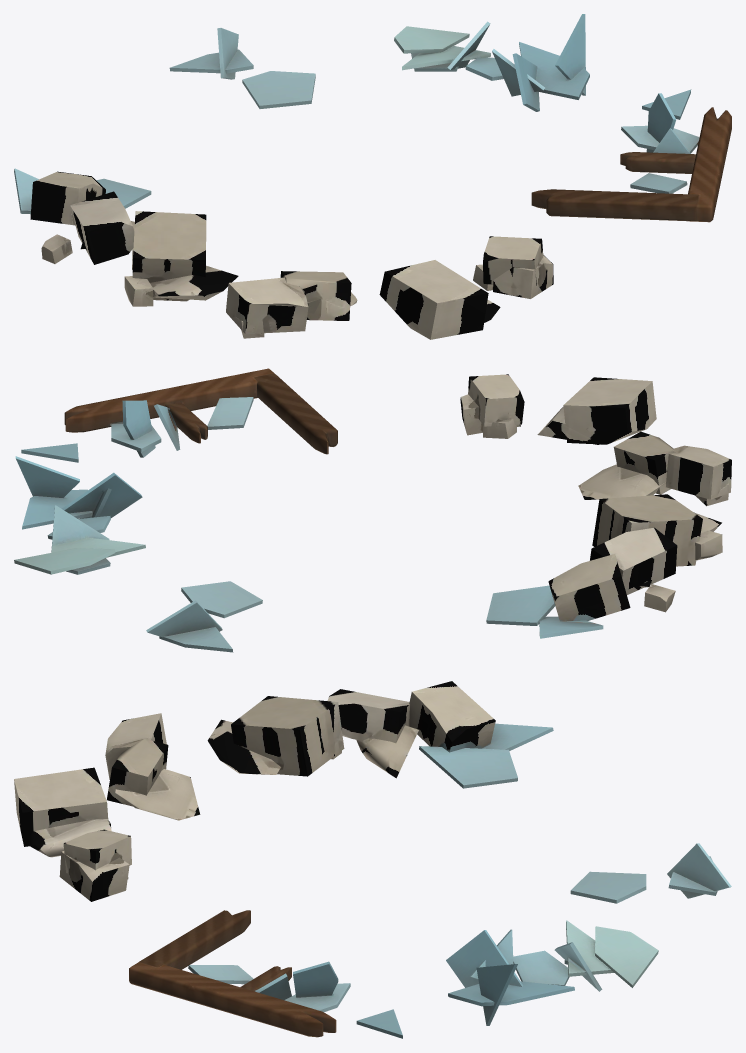
The model's file is rough-glass-1.hq.glb.
The picture shows the model from 3 angles, top to bottom: view 1: azimuth 30°, elevation 25°; view 2: azimuth 150°, elevation 25°; view 3: azimuth 270°, elevation 25°; orthographic projection.
Parts seen in each view (by area): view 1: rough-glass-1; view 2: rough-glass-1; view 3: rough-glass-1.
Boxes of the visible parts, x1,y1,x2,y2 form: rough-glass-1: [14, 14, 731, 339]; rough-glass-1: [14, 368, 731, 652]; rough-glass-1: [14, 681, 731, 1038].
Bounding box in the file's own units: 1.56 × 0.1576 × 1.48.
Materials: 1 (1 with a texture image).
